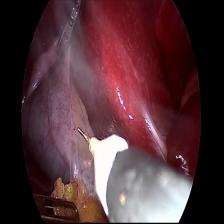Grasper: (44, 7, 86, 74), (31, 190, 81, 224)
Hook: (72, 120, 137, 217)
